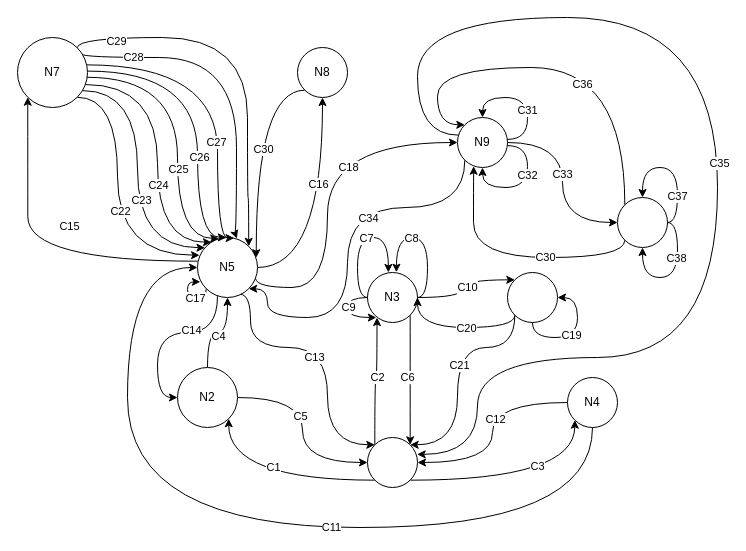
The diagram is 746 pixels wide and 551 high, and some of its shapes have lost their labels. The box of each missing label's shape, as (x1, y1, x2, y2) in pixels:
N1: (366, 436, 418, 488)
N10: (616, 196, 668, 248)
N6: (506, 272, 558, 322)
